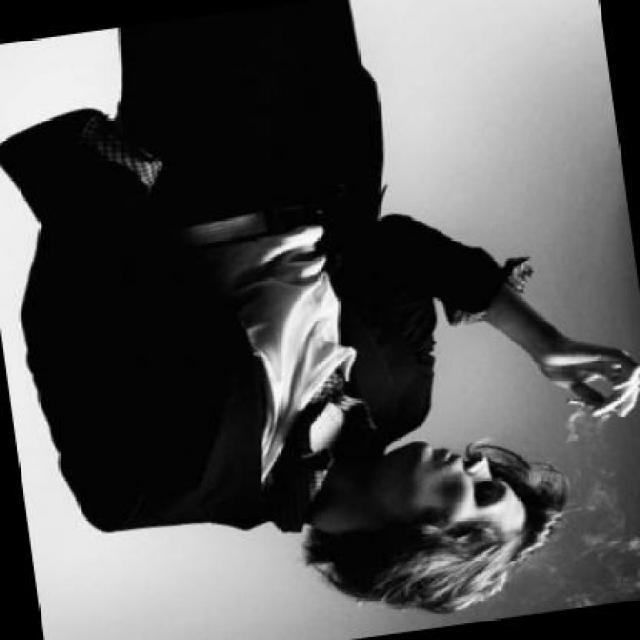cigarette: (557, 393, 586, 409)
